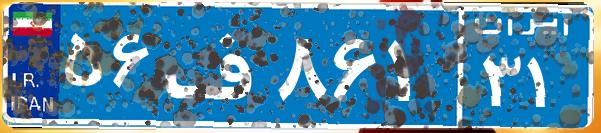1: (385, 28, 445, 110), (525, 38, 570, 115)
3: (475, 38, 525, 113)
5: (57, 26, 110, 107)
6: (330, 28, 385, 110), (110, 28, 158, 105)
8: (273, 28, 330, 110)
ف: (158, 15, 273, 115)
